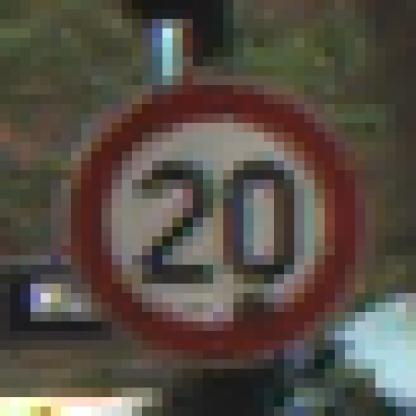Speed Limit 20: (71, 87, 358, 361)
